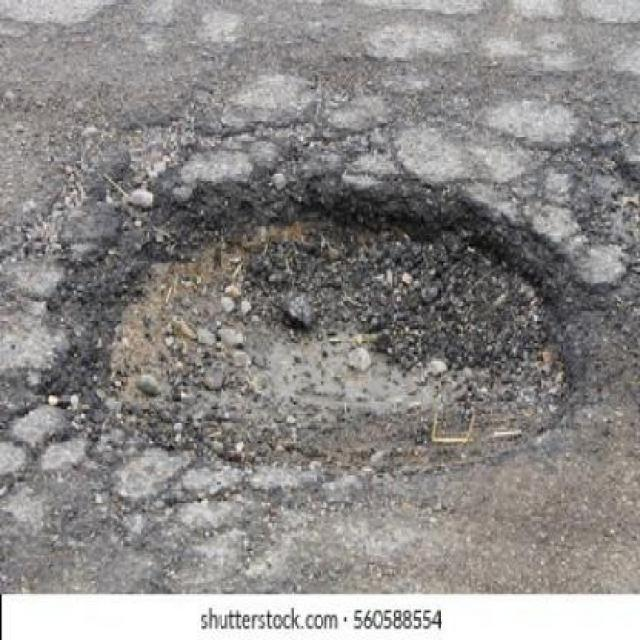Buraco: (45, 172, 584, 478)
